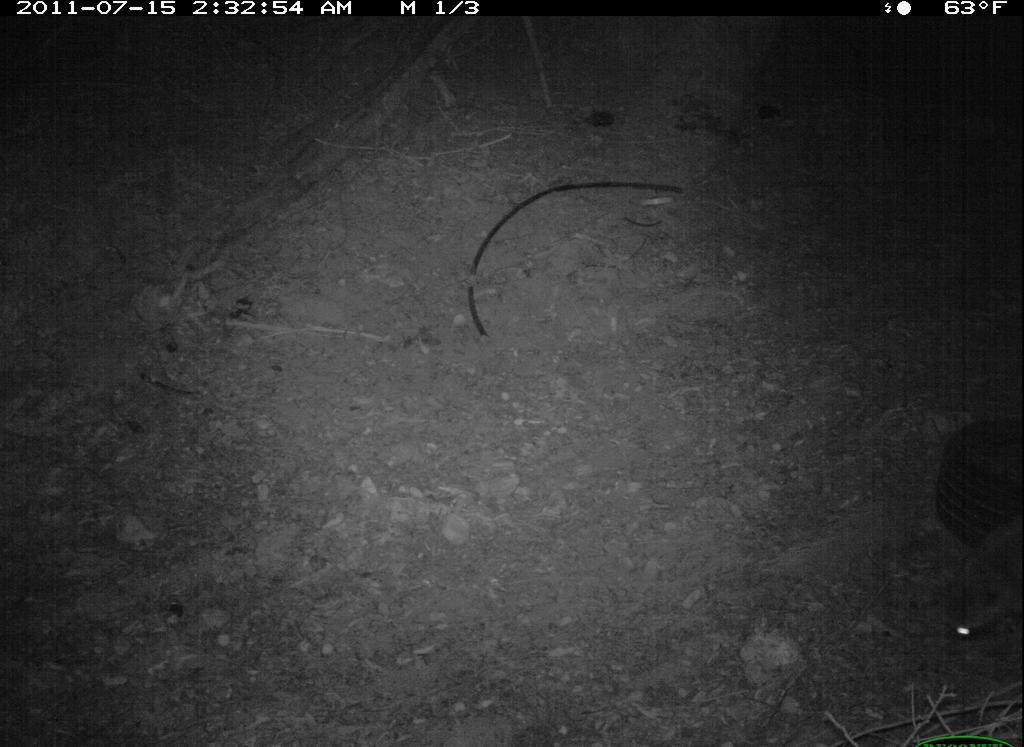raccoon: (935, 504, 1023, 664)
